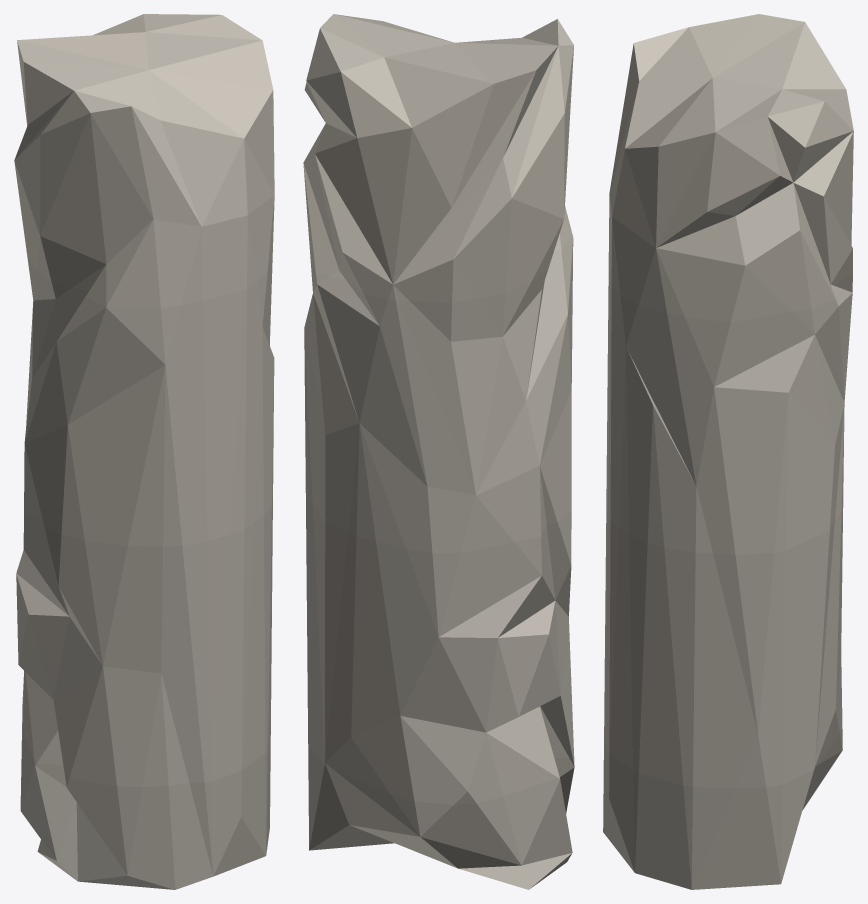
File: YN_Pillar4.fbx
3 renders of one model, left to right at view 1: azimuth 30°, elevation 25°; view 2: azimuth 150°, elevation 25°; view 3: azimuth 270°, elevation 25°, orthographic. The views are drawn at different scales.
Visible parts, largest first — view 1: Pillar4; view 2: Pillar4; view 3: Pillar4.
Part boxes in pixels (x1=…): Pillar4: x1=14, y1=14, x2=274, y2=889; Pillar4: x1=303, y1=14, x2=574, y2=889; Pillar4: x1=603, y1=14, x2=853, y2=889.
Bounding box in the file's own units: 1.36 × 4.54 × 1.33.
